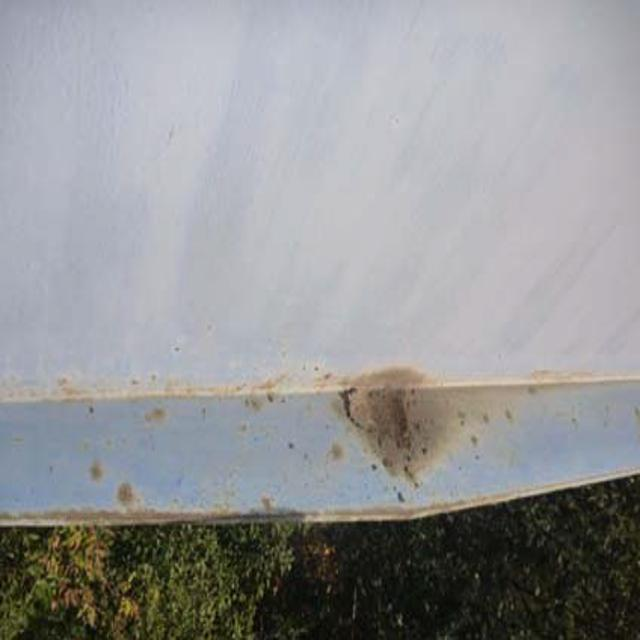corrosion: (326, 343, 467, 524)
